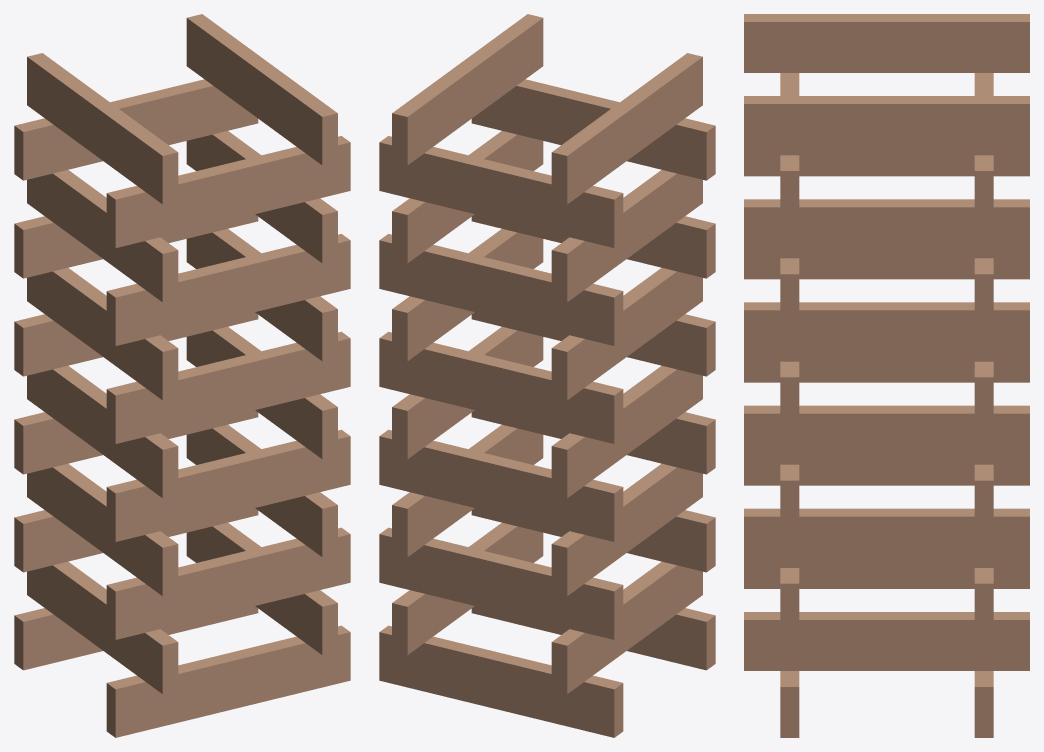
Rendered from keva_tower.dae.
3 renders of one model, left to right at view 1: azimuth 30°, elevation 25°; view 2: azimuth 150°, elevation 25°; view 3: azimuth 270°, elevation 25°, orthographic. The views are drawn at different scales.
Visible parts, largest first — view 1: base (×24); view 2: base (×24); view 3: base (×24).
Part boxes in pixels (box(x1,y1,x2,y2)): base (×24): box(14, 14, 350, 737); base (×24): box(379, 14, 715, 737); base (×24): box(744, 14, 1029, 737).
Size of the model in its own units: 0.1177 by 0.1177 by 0.2811.
